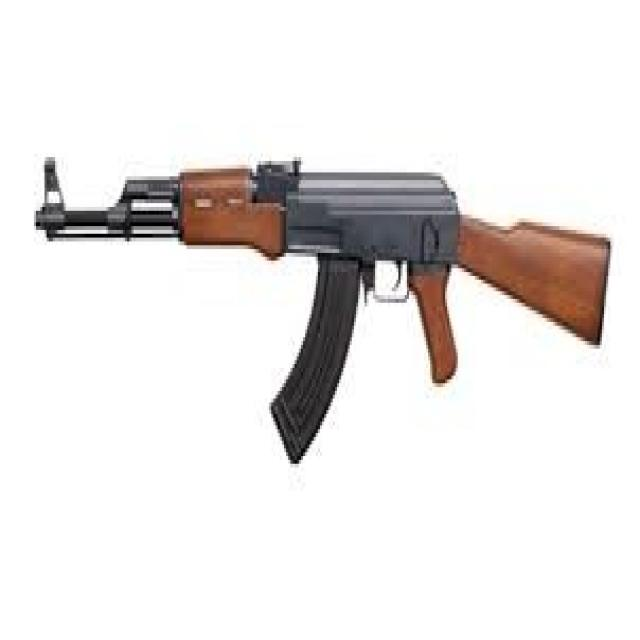rifle: (29, 145, 619, 498)
